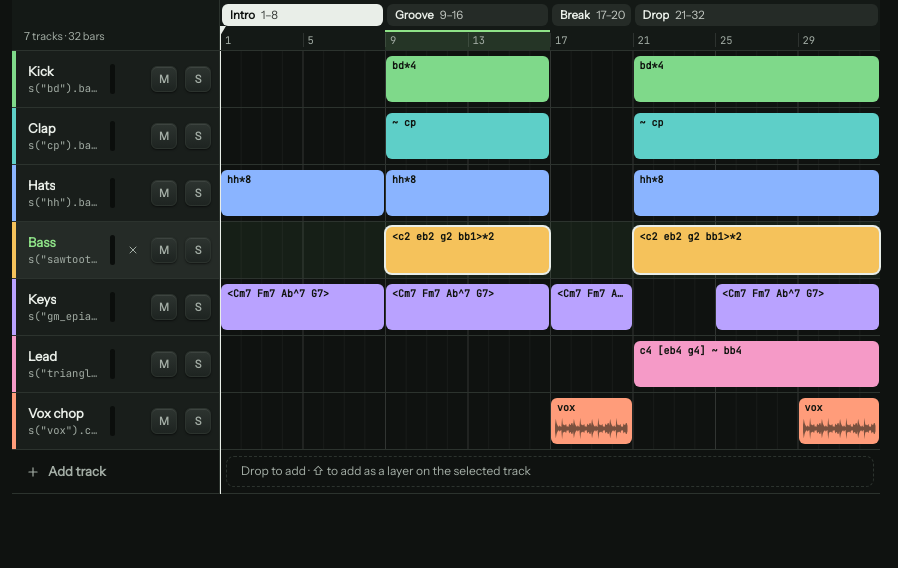
it: Timeline › should add a track of the chosen kind from the Add track menu
This screenshot has width=898, height=568.
Click the button "Add track": (446,472) top-left (12, 450), bottom-right (880, 493)
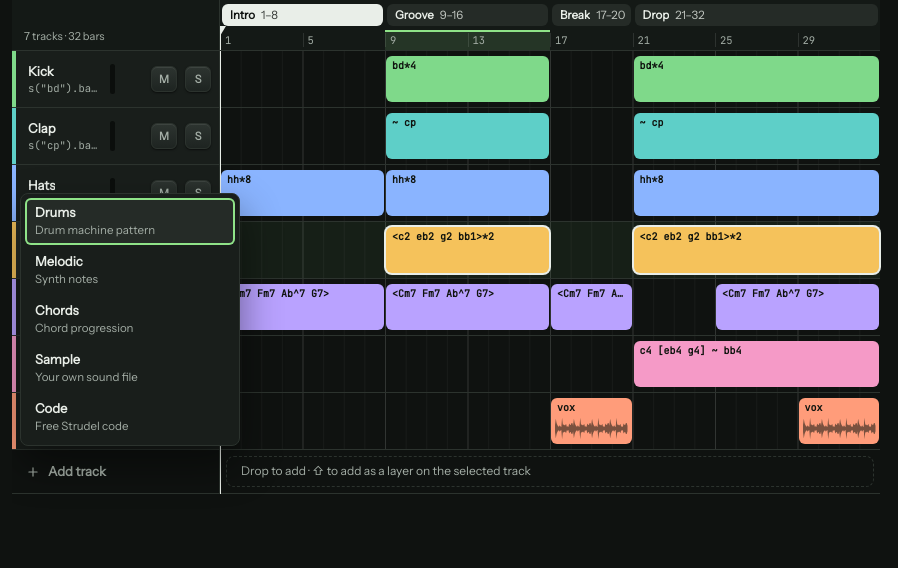
Click the menu item "Chords Chord progression": (130,319) top-left (25, 296), bottom-right (235, 343)
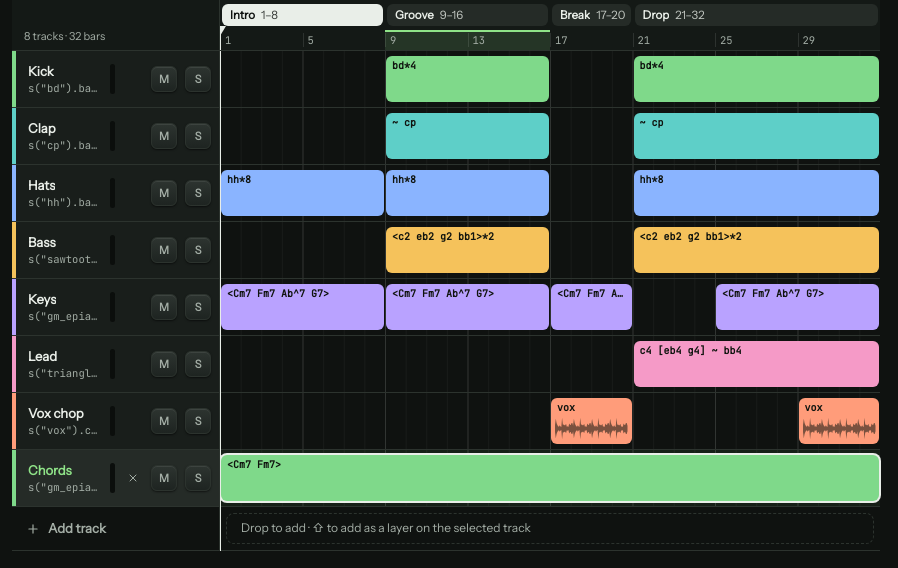
Check: the menu is gone
